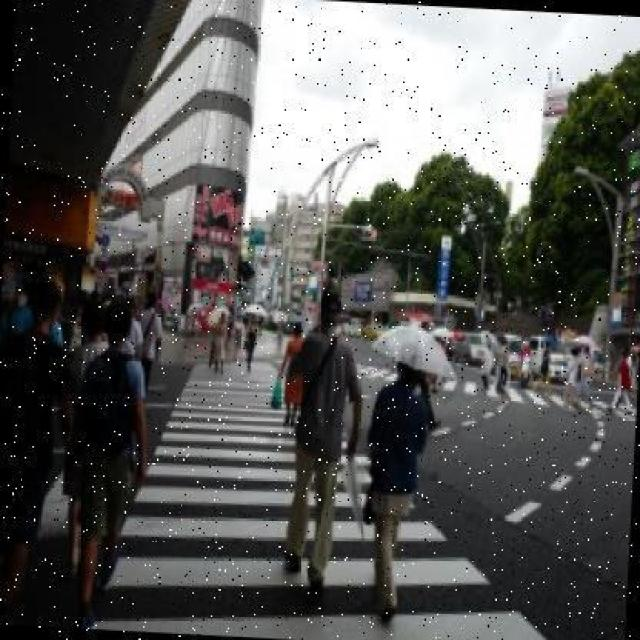Person: (67, 294, 151, 628), (275, 282, 362, 580), (356, 352, 429, 626), (209, 305, 229, 373), (242, 312, 258, 368)
